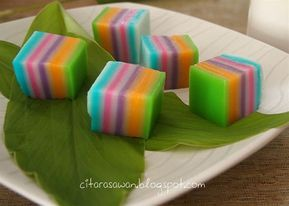kue_lapis_pelangi: (87, 61, 165, 139), (189, 53, 261, 128), (12, 31, 87, 100), (92, 5, 150, 61), (141, 34, 200, 89)
